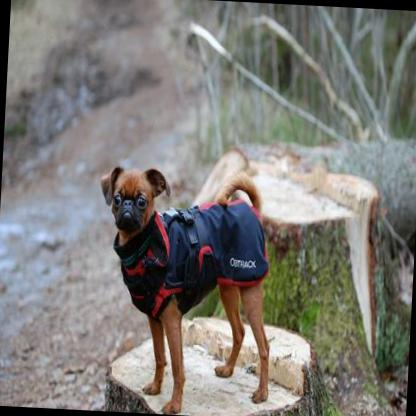Brabancon_griffon: (86, 160, 282, 416)
